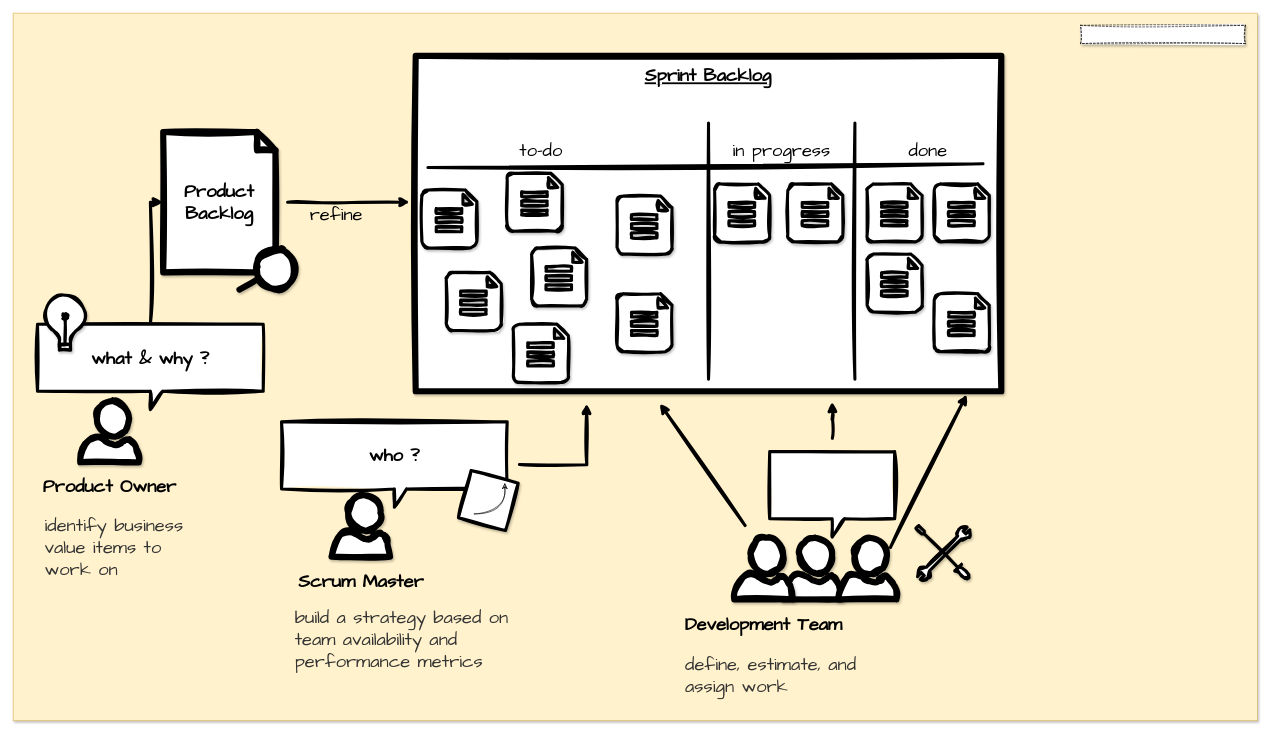
Image size: 1272x736. Some labels were removed from this diagram. The centre of each missing label's shape, as x and y in pixels:
"how ?" goes at [832,494].
"https://rkkoranteng.com" goes at [1163,35].
"X O O X" goes at [488,501].
